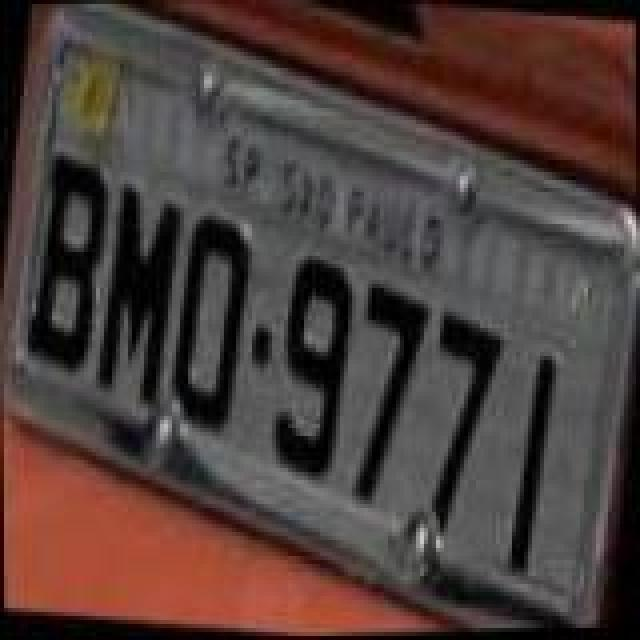1: (498, 350, 562, 582)
7: (336, 276, 436, 512), (412, 306, 512, 542)
9: (262, 248, 362, 480)
B: (16, 150, 116, 378)
M: (84, 182, 188, 414)
O: (158, 212, 258, 436)
